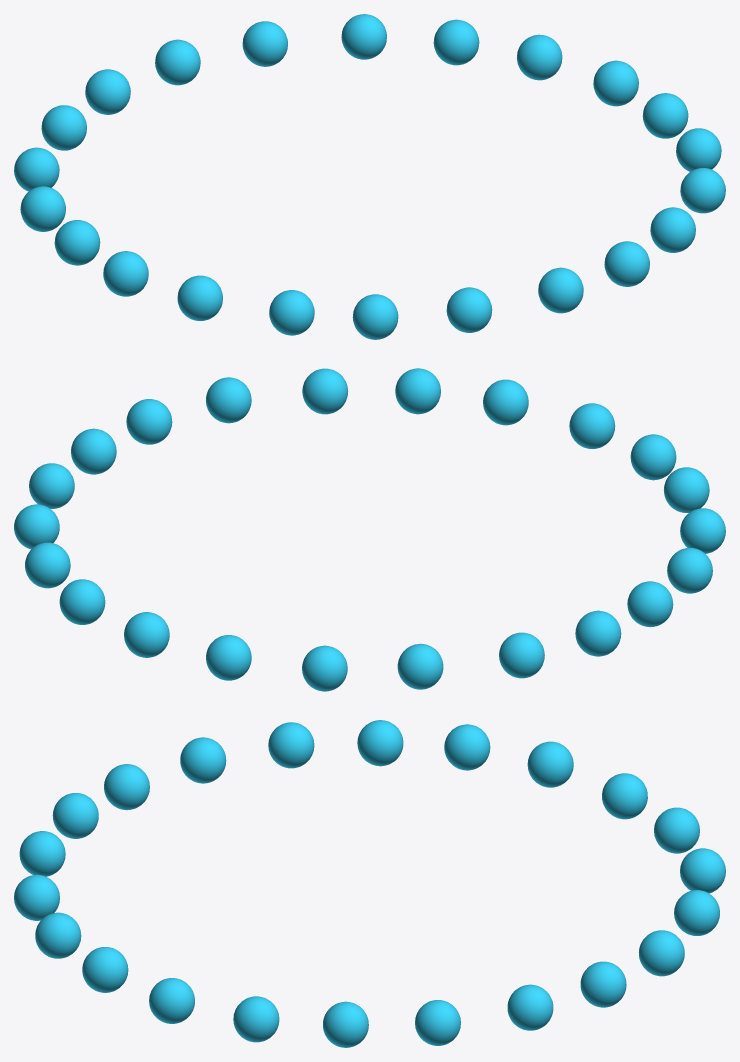
3 renders of one model, top to bottom at view 1: azimuth 30°, elevation 25°; view 2: azimuth 150°, elevation 25°; view 3: azimuth 270°, elevation 25°, orthographic.
Parts seen in each view (by area): view 1: Sphere048; view 2: Sphere048; view 3: Sphere048.
Boxes of the visible parts, x1,y1,x2,y2 form: Sphere048: (14,14,725,339); Sphere048: (14,368,725,691); Sphere048: (14,720,725,1047).
Bounding box in the file's own units: 127 × 8.22 × 127.
